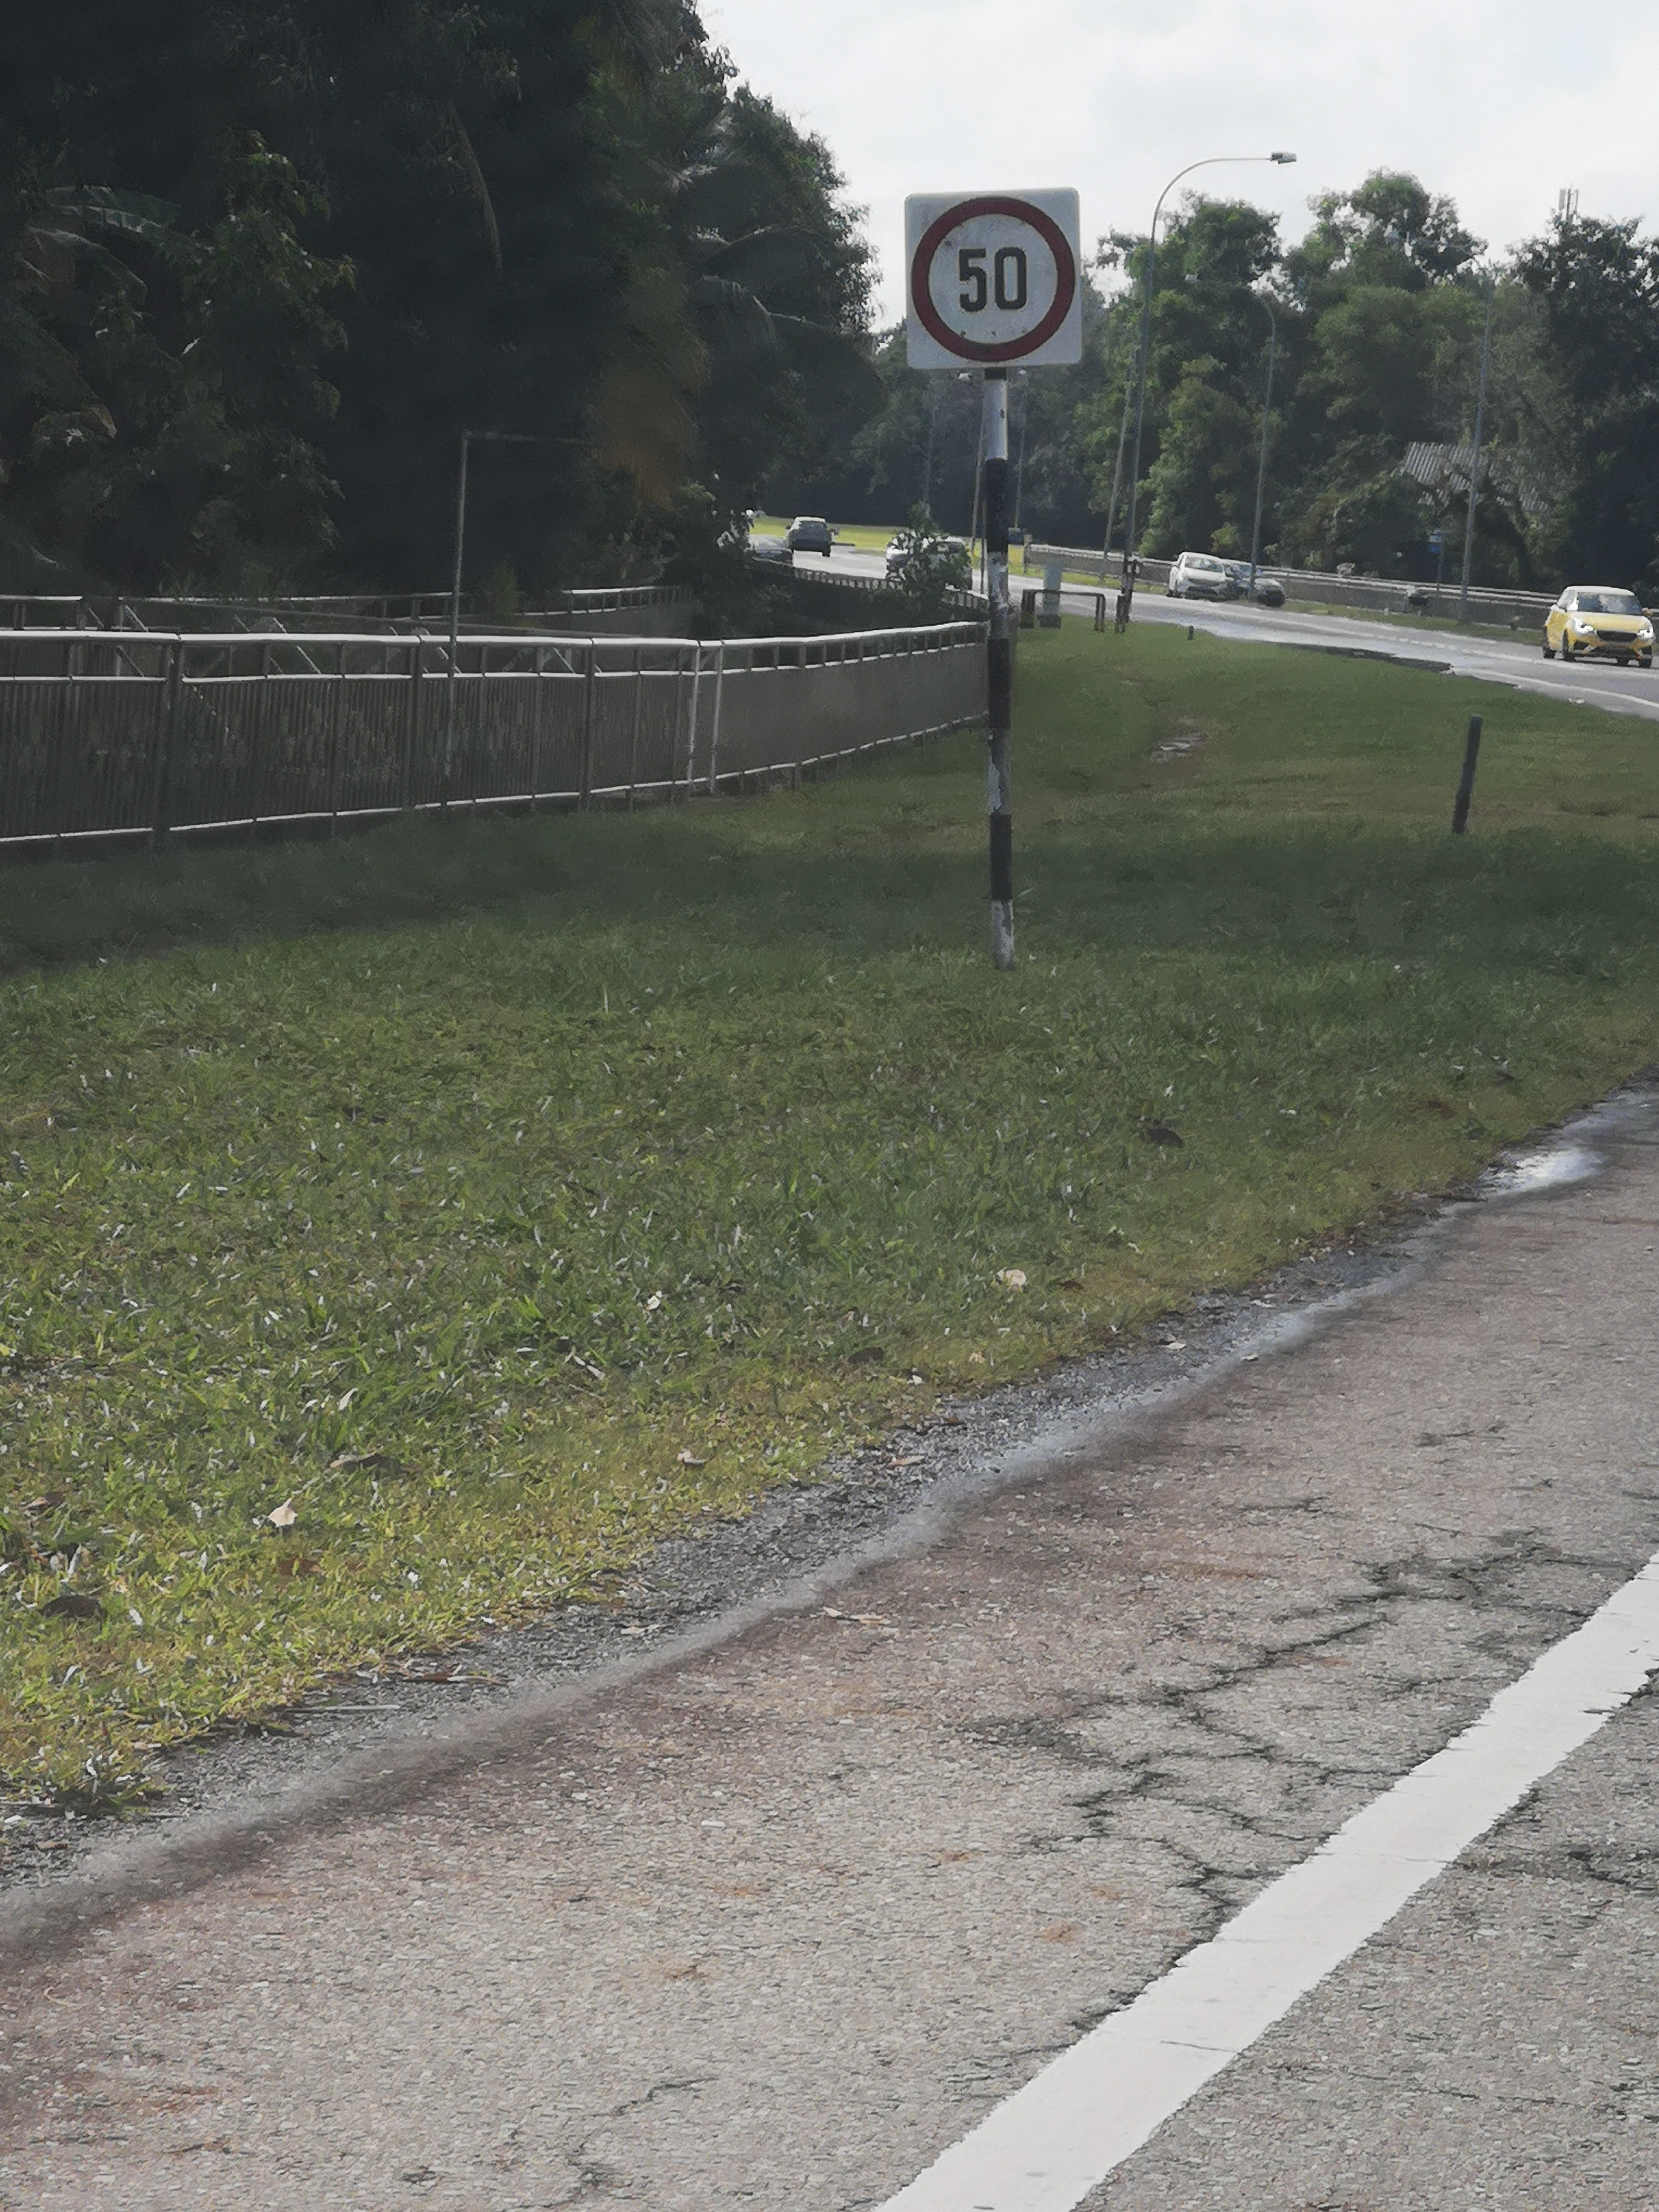speed limit 50: (890, 181, 1101, 385)
